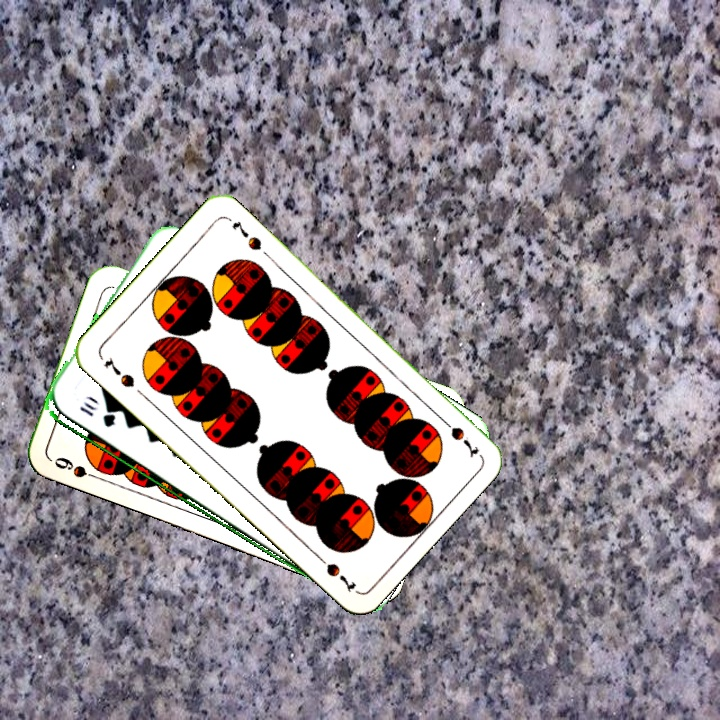G10: (75, 398, 118, 430)
S7: (435, 412, 482, 460), (100, 352, 138, 390)
S9: (50, 453, 105, 483)
